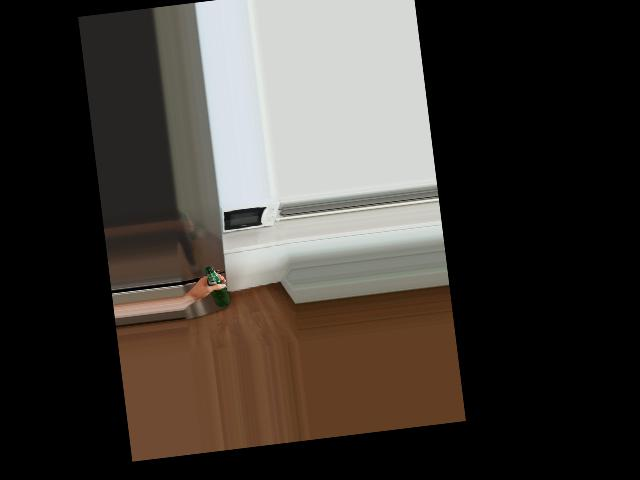beer: (204, 264, 230, 309)
